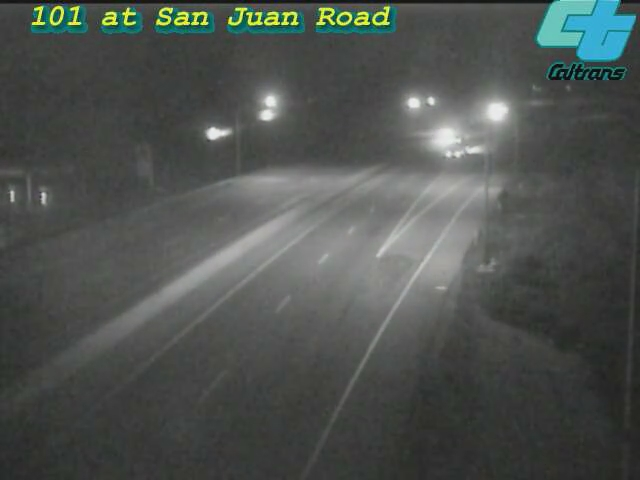vehicle: (418, 109, 468, 159), (469, 88, 519, 138), (427, 123, 477, 173)
